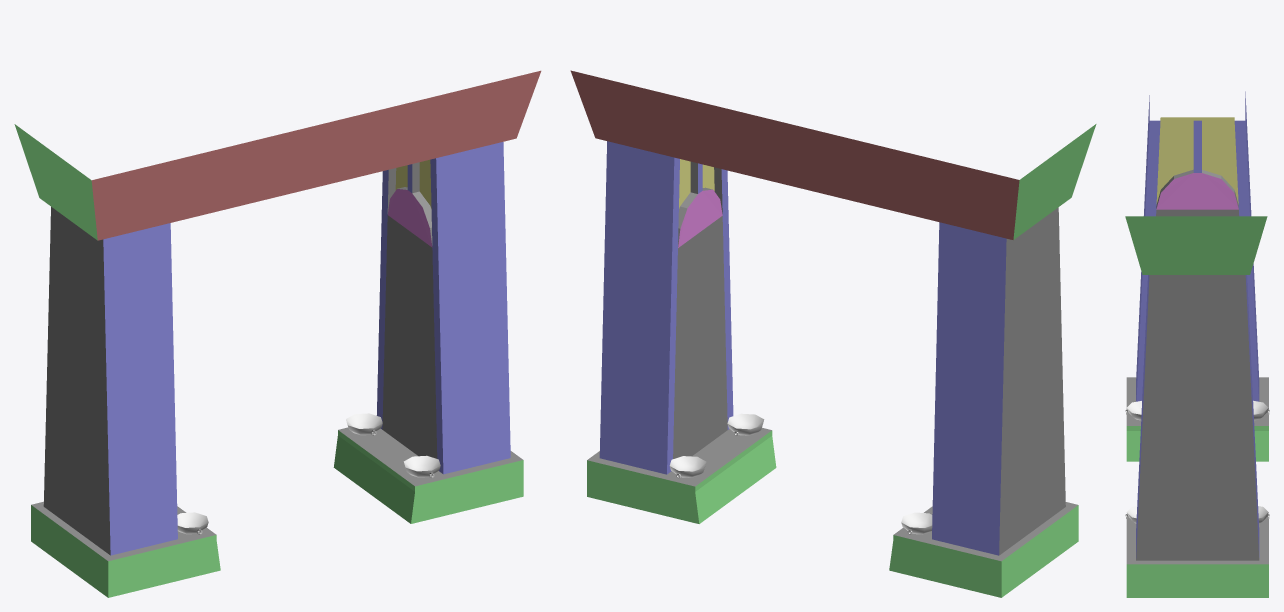
The model's file is SSQ_dungeon_S__SSQ_Room01_Gate.gltf.
3 renders of one model, left to right at view 1: azimuth 30°, elevation 25°; view 2: azimuth 150°, elevation 25°; view 3: azimuth 270°, elevation 25°, orthographic. The views are drawn at different scales.
Visible parts, largest first — view 1: SSQ_Room01_Gate; view 2: SSQ_Room01_Gate; view 3: SSQ_Room01_Gate.
Boxes of the visible parts, box(x1,y1,x2,y2) form: SSQ_Room01_Gate: box(14, 70, 541, 597); SSQ_Room01_Gate: box(570, 70, 1096, 597); SSQ_Room01_Gate: box(1125, 91, 1269, 597).
Bounding box in the file's own units: 4.34 × 3.89 × 1.31.
